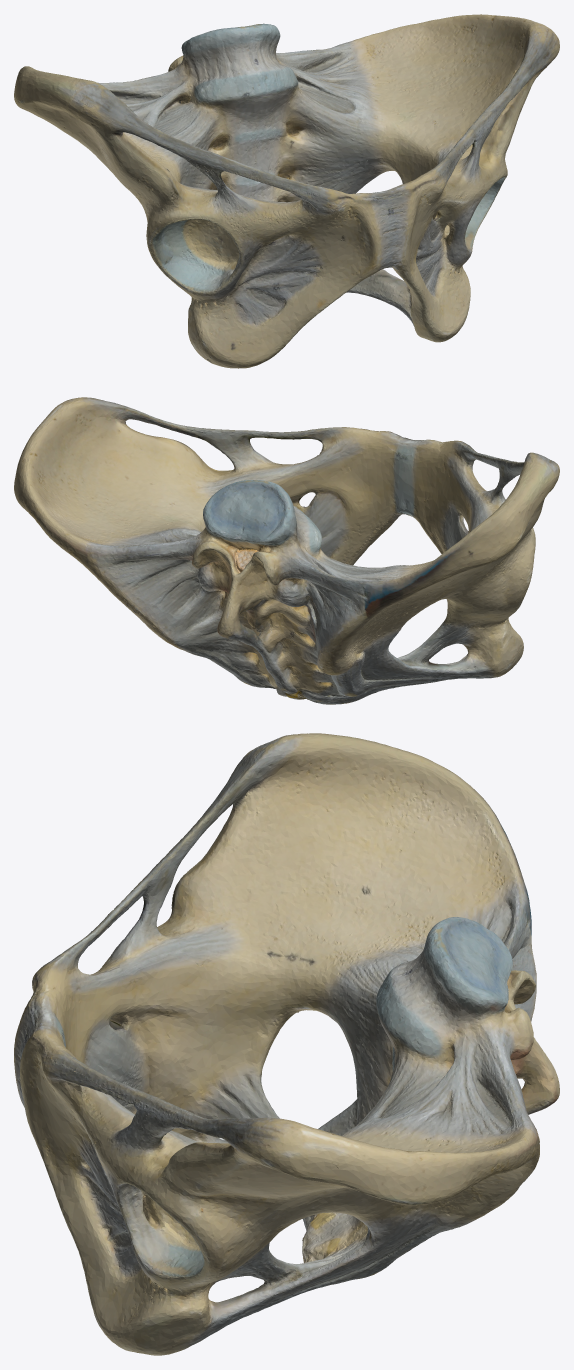
The model's file is pelvis.glb.
The picture shows the model from 3 angles, top to bottom: view 1: azimuth 30°, elevation 25°; view 2: azimuth 150°, elevation 25°; view 3: azimuth 270°, elevation 25°; orthographic projection. The views are drawn at different scales.
Parts seen in each view (by area): view 1: Sharp Fusion 1; view 2: Sharp Fusion 1; view 3: Sharp Fusion 1.
Part boxes in pixels (x1,y1,x2,y2): Sharp Fusion 1: (14, 14, 559, 368); Sharp Fusion 1: (14, 397, 559, 704); Sharp Fusion 1: (14, 733, 559, 1355).
Bounding box in the file's own units: 303 × 171 × 206.
1 material, 1 textured.
